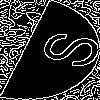S: (25, 25, 100, 72)
